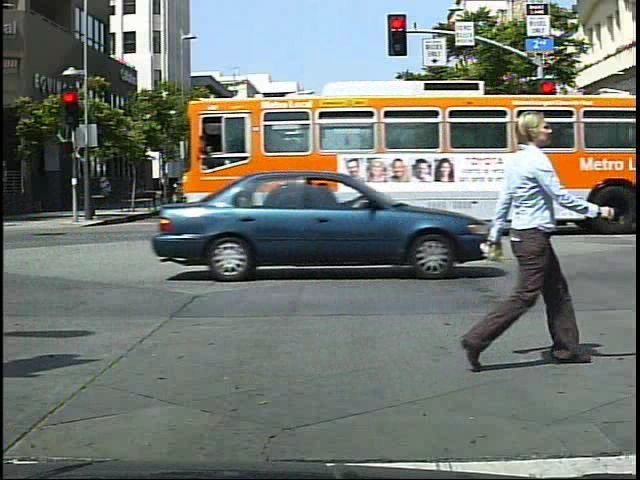person: (457, 96, 597, 399), (313, 164, 344, 228), (221, 166, 250, 233), (310, 166, 339, 230), (549, 160, 572, 211)
